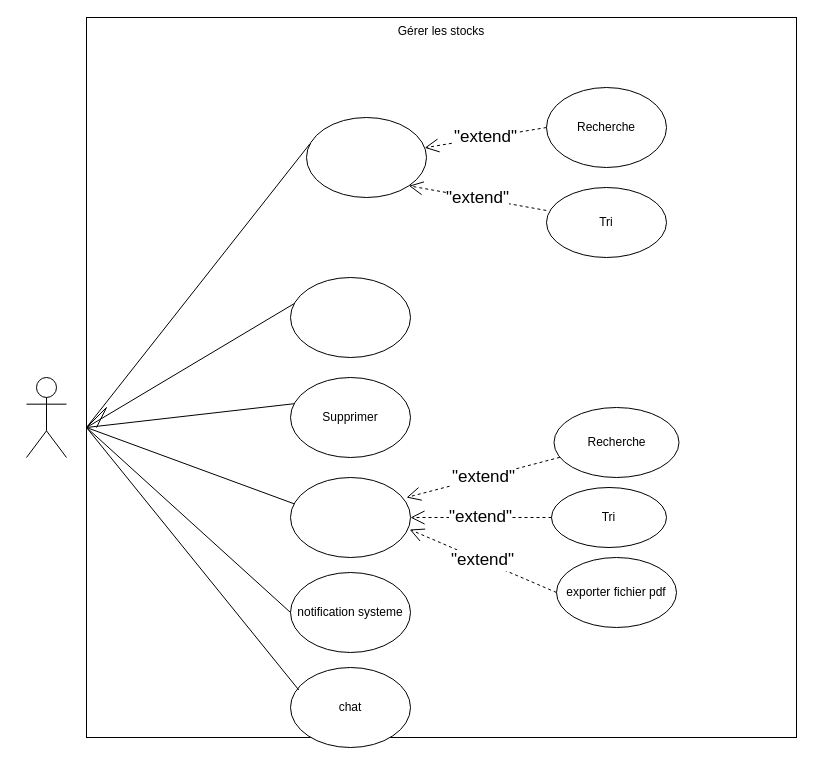
The diagram is 814 pixels wide and 765 high, and some of its shapes have lost their labels. The shapes that lost their labels are listed below. From the top down, each one's centre as x and y in pixels, then its label:
[366,157]: Ajouter
[350,317]: Modifier
[46,417]: magasinier
[350,517]: Afficher
